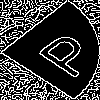P: (24, 25, 100, 81)
